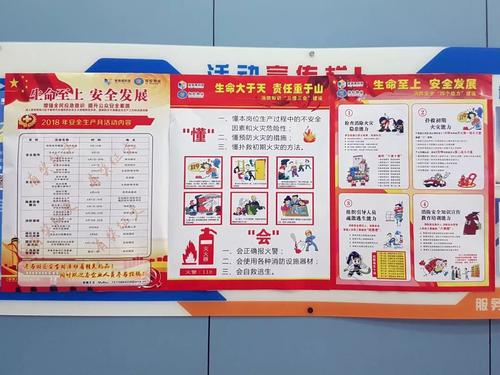bill: (1, 72, 171, 290), (170, 74, 337, 289), (336, 75, 495, 292)
